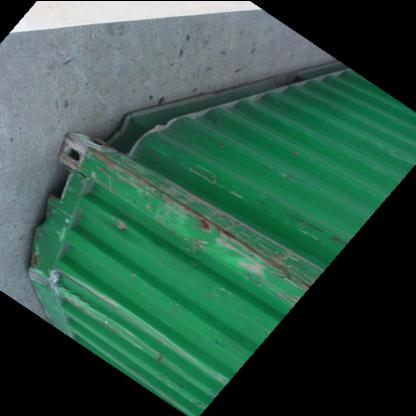Damage: (72, 161, 306, 273)
